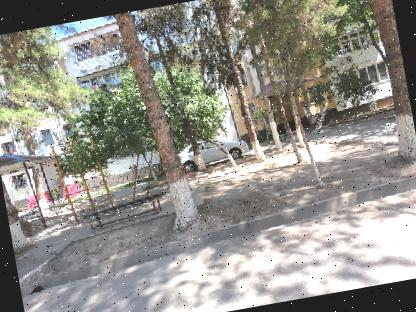car: (172, 124, 249, 175)
tree: (107, 4, 209, 244), (348, 0, 416, 171), (213, 0, 269, 170)
